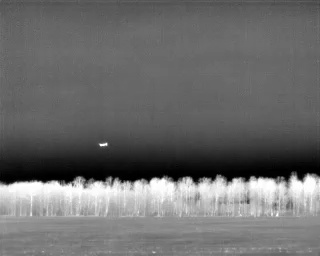DRONE: (95, 138, 112, 152)
